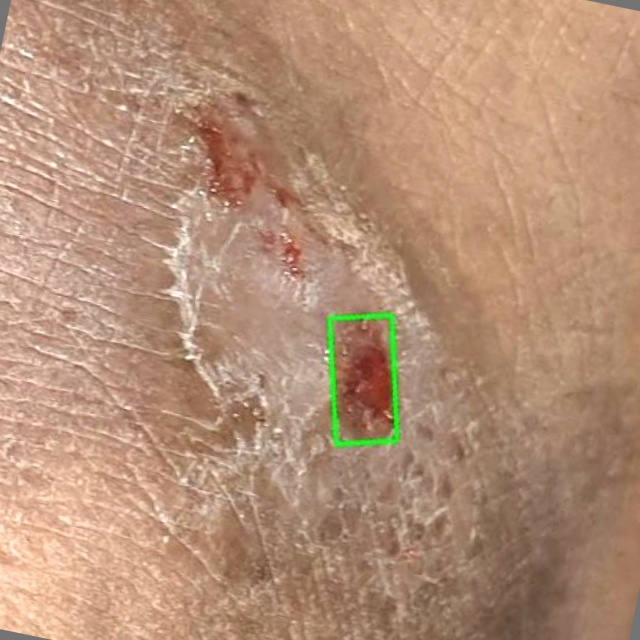Contact Dermatitis: (329, 314, 396, 443)
